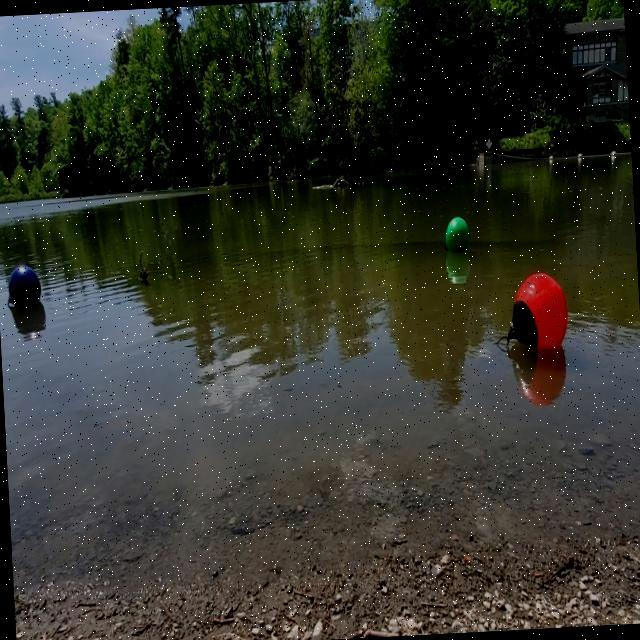buoy: (490, 270, 571, 356), (4, 260, 44, 316), (440, 212, 473, 256)
